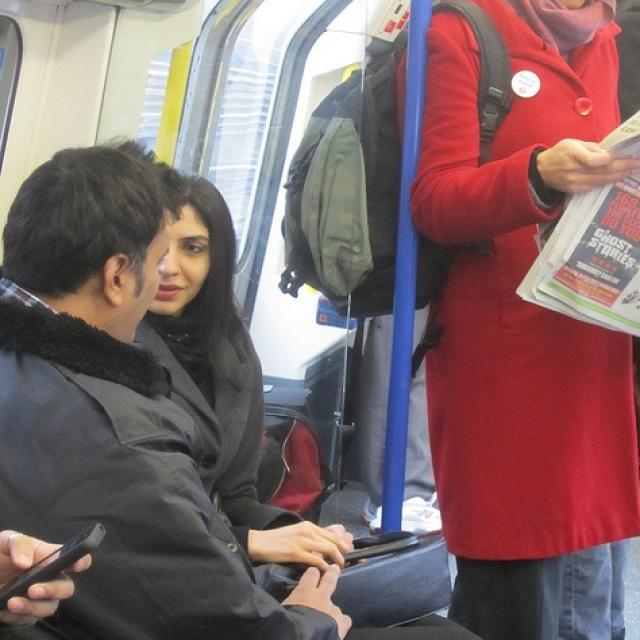body: (274, 0, 639, 639), (0, 143, 352, 639), (122, 170, 360, 581), (263, 308, 436, 546), (0, 509, 111, 639)
